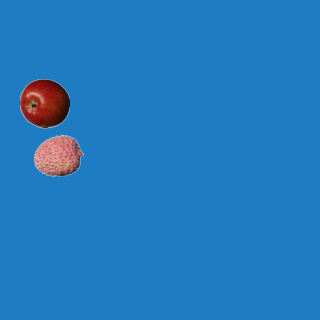Apple Braeburn: (19, 78, 69, 128)
Lychee: (33, 130, 83, 180)
